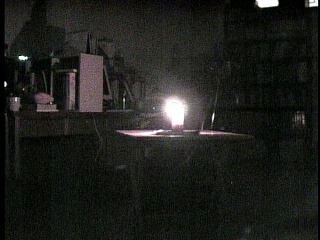fire: (161, 94, 189, 129)
